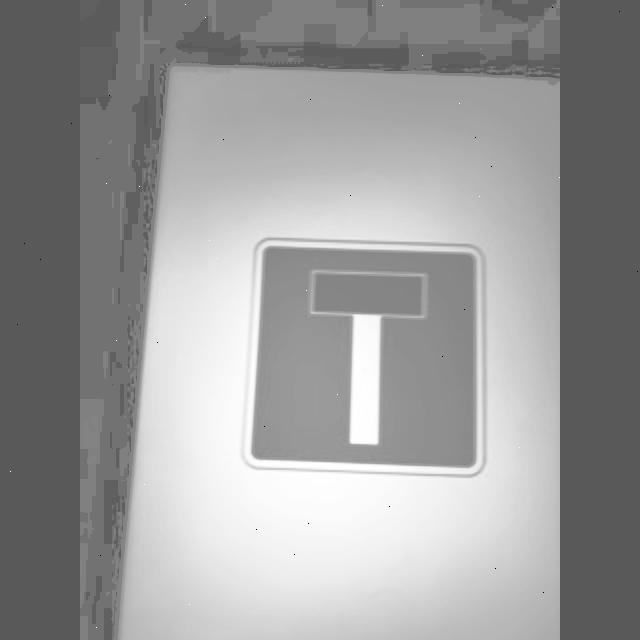DEAD END: (248, 235, 490, 478)
